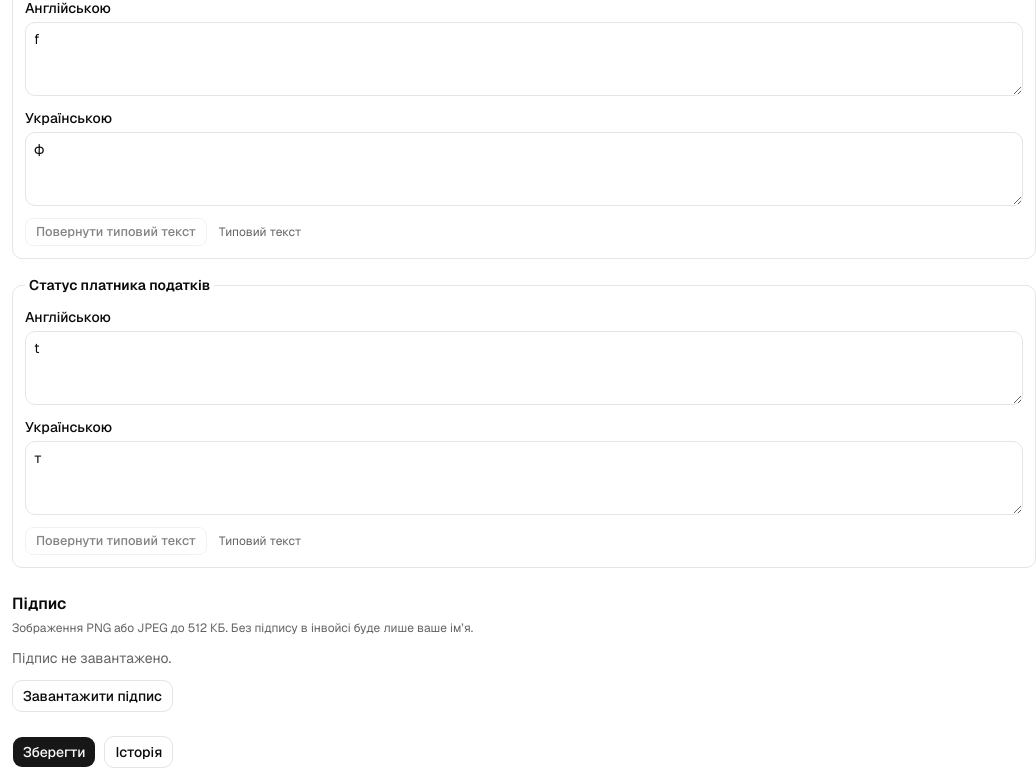
it: InvoicingForm network failure › says so in uk when the save never reaches the api
This screenshot has width=1036, height=768.
(page scrolled)
Step 1. Click the button "Зберегти" → (54, 752), box [12,736,96,767]
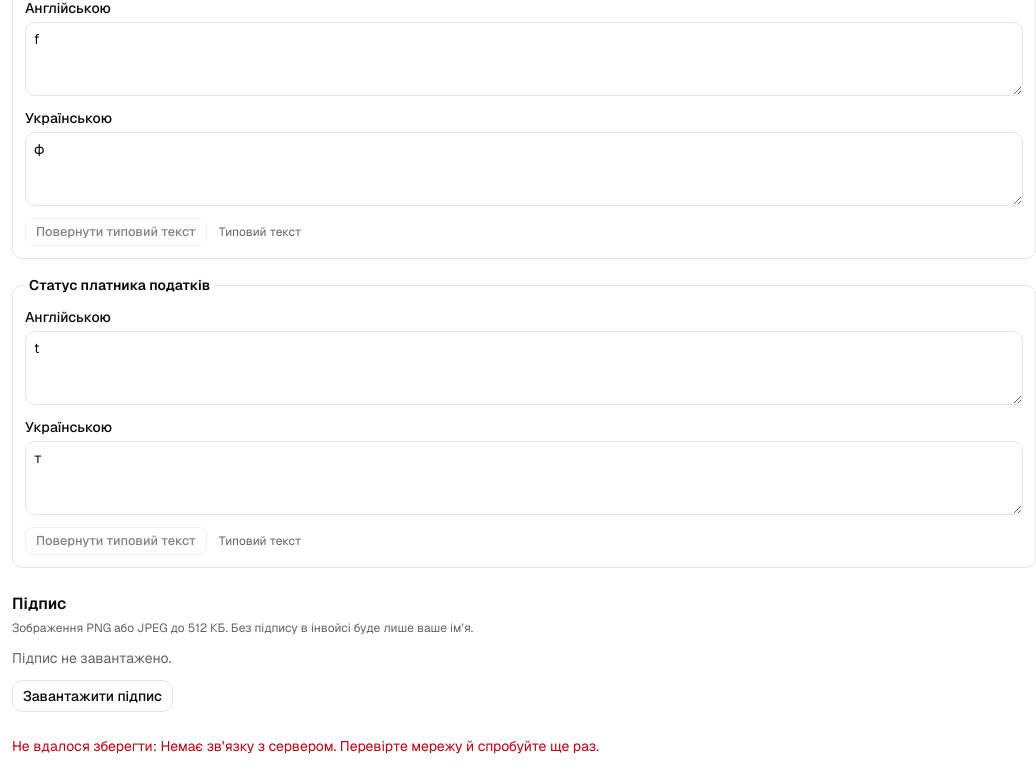
Now the text "Не вдалося зберегти: Немає зв'язку з сервером. Перевірте мережу й спробуйте ще раз." is shown, box [12,737,599,755]
